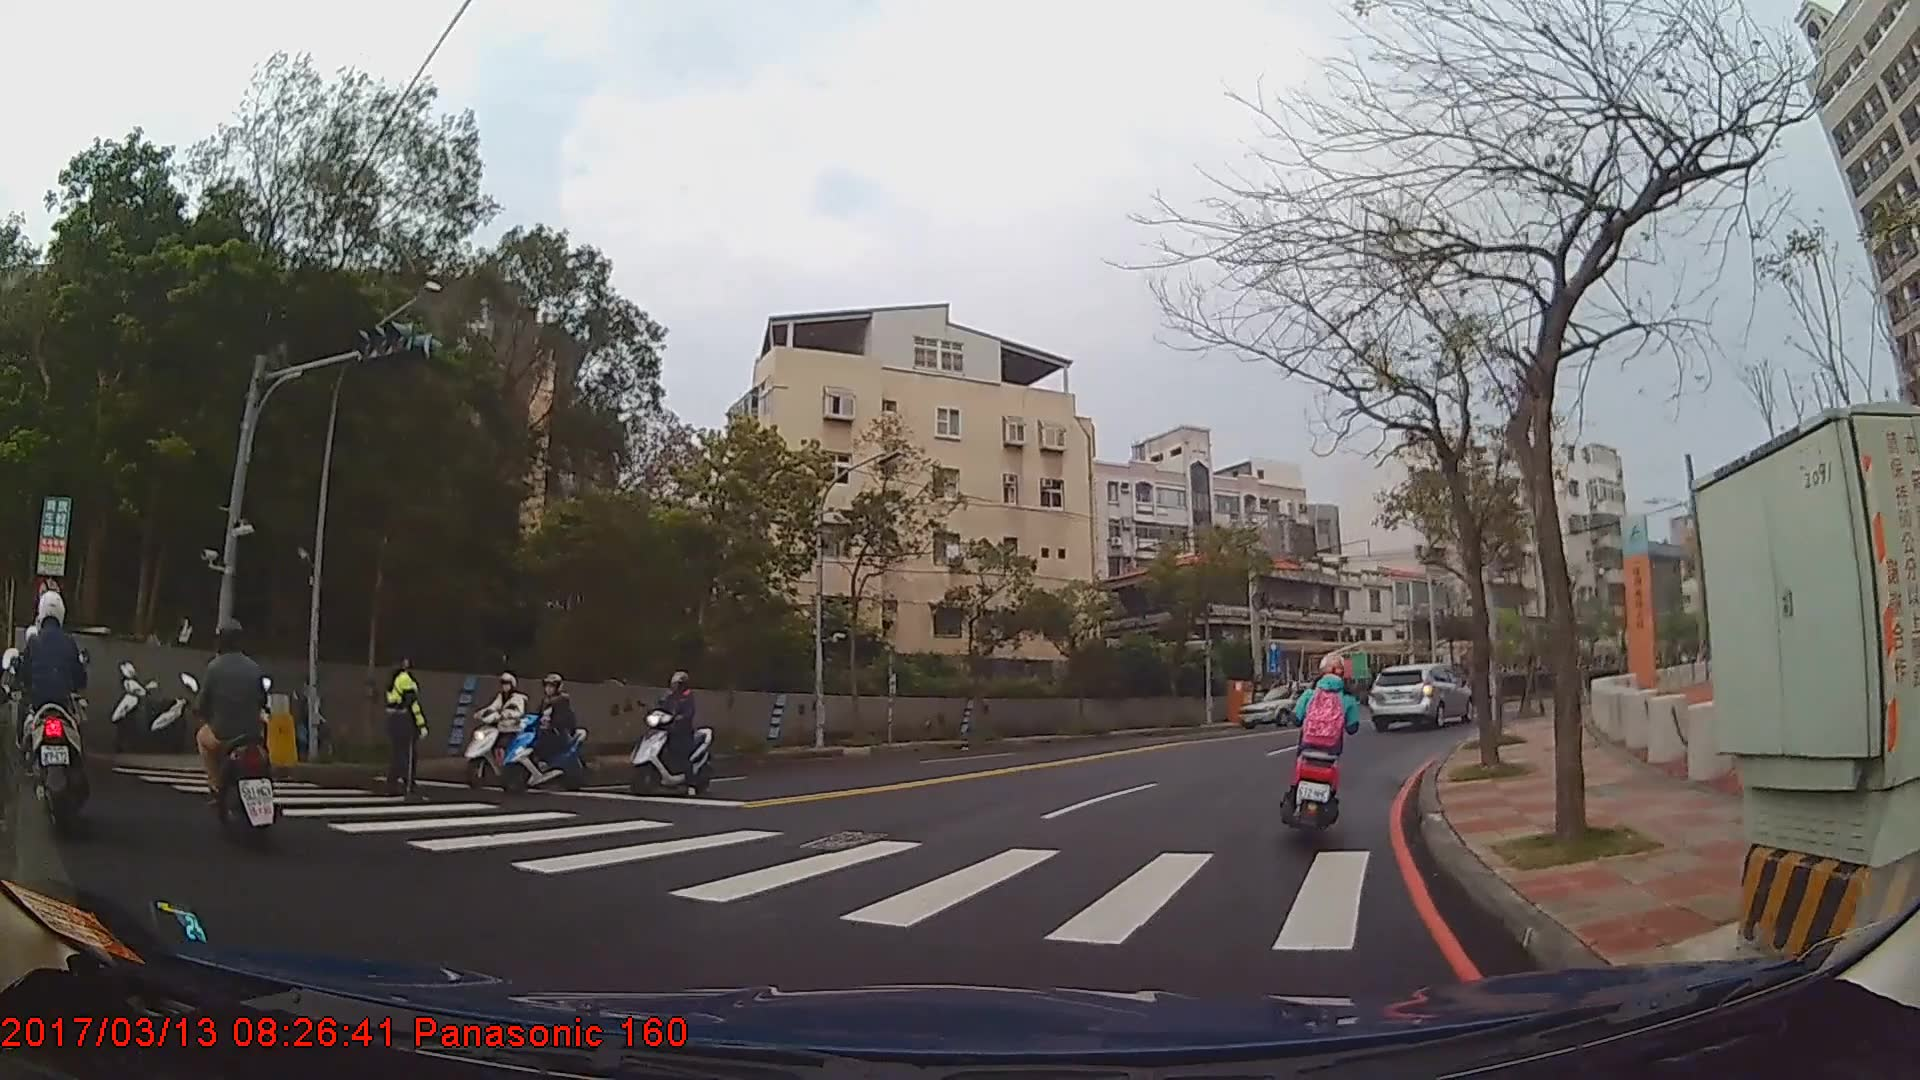pedestrian: (384, 644, 432, 797)
rider: (182, 613, 276, 842), (8, 588, 86, 836), (1284, 652, 1362, 832), (630, 671, 716, 795), (506, 669, 584, 788), (465, 670, 542, 784)
vehicle: (1365, 660, 1473, 728), (1235, 683, 1324, 729)
